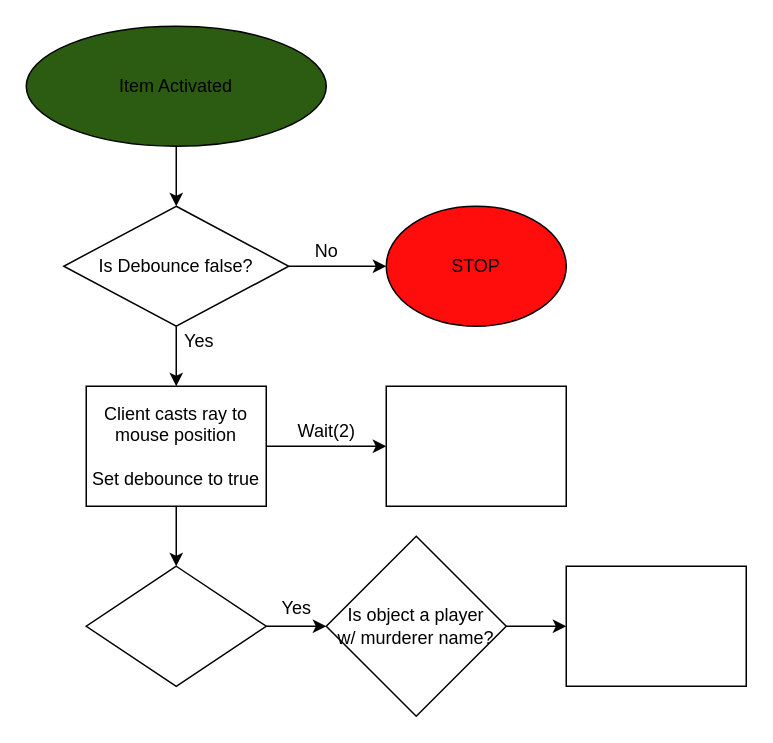
Image size: 773x743. Some labels were removed from this diagram. The shapes that lost their labels are listed below. From the top down, each one's centre as x and y in pixels, then its label:
(x=475, y=445): Debounce = false
(x=175, y=625): Did the ray hit an object?
